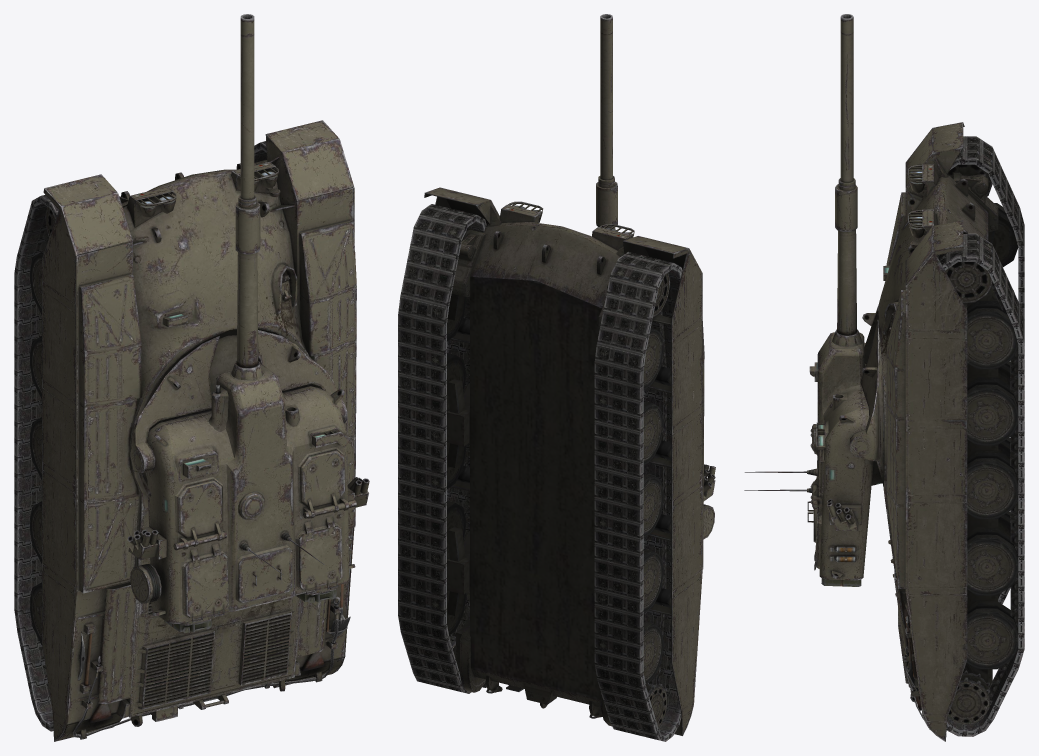
3 views of the same model, side by side, from view 1: azimuth 30°, elevation 25°; view 2: azimuth 150°, elevation 25°; view 3: azimuth 270°, elevation 25° (orthographic). The views are drawn at different scales.
Parts seen in each view (by area): view 1: hull, gun_01_mask, chassis_track_L, turret_01, gun_01; view 2: hull, chassis_track_L, chassis_track_R, gun_01, chassis_wheel_L_04, chassis_wheel_L_08, chassis_wheel_L_06, chassis_wheel_L_10, chassis_wheel_L_02, gun_01_mask, chassis_wheel_L_11, chassis_wheel_R_04 (+1 smaller); view 3: hull, gun_01_mask, chassis_track_R, gun_01, turret_01, chassis_wheel_R_04, chassis_wheel_R_10, chassis_wheel_R_08, chassis_wheel_R_06, chassis_wheel_R_02, chassis_track_L, chassis_wheel_R_11 (+2 smaller).
Boxes of the visible parts, x1,y1,x2,y2 form: hull: (42, 120, 356, 741); gun_01_mask: (127, 360, 369, 632); chassis_track_L: (14, 195, 58, 731); turret_01: (130, 330, 347, 485); gun_01: (235, 14, 260, 367); hull: (424, 187, 704, 735); chassis_track_L: (594, 252, 682, 741); chassis_track_R: (398, 204, 486, 693); gun_01: (596, 14, 617, 228); chassis_wheel_L_04: (643, 401, 664, 465); chassis_wheel_L_08: (643, 549, 664, 613); chassis_wheel_L_06: (643, 473, 664, 537); chassis_wheel_L_10: (643, 621, 664, 684); chassis_wheel_L_02: (643, 327, 664, 390); gun_01_mask: (703, 464, 715, 539); chassis_wheel_L_11: (646, 683, 667, 727); chassis_wheel_R_04: (447, 353, 466, 411); hull: (878, 122, 998, 741); gun_01_mask: (744, 329, 882, 586); chassis_track_R: (937, 233, 1024, 736); gun_01: (835, 14, 857, 335); turret_01: (850, 306, 884, 487); chassis_wheel_R_04: (967, 377, 1018, 445); chassis_wheel_R_10: (966, 601, 1018, 669); chassis_wheel_R_08: (967, 527, 1018, 595); chassis_wheel_R_06: (967, 451, 1018, 519); chassis_wheel_R_02: (967, 301, 1018, 369); chassis_track_L: (950, 136, 1024, 604); chassis_wheel_R_11: (948, 670, 992, 724).
Size of the model in its own units: 3.38 by 8.47 by 3.24.
2 materials, 2 textured.
